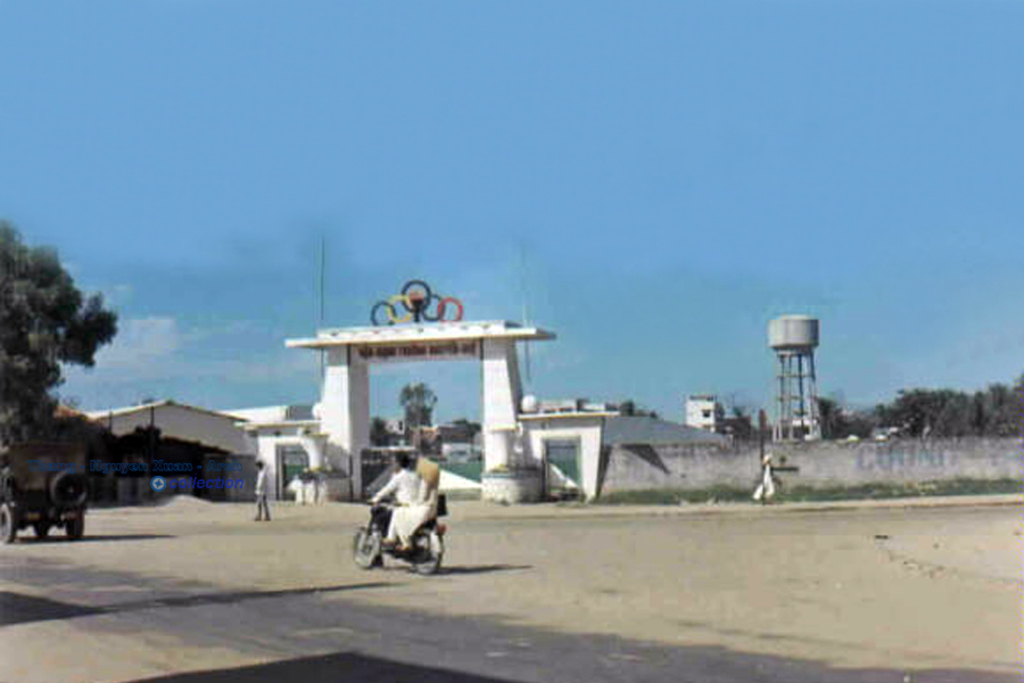Tree: (0, 209, 121, 446), (713, 379, 1017, 425), (394, 381, 441, 438), (368, 413, 389, 448)
